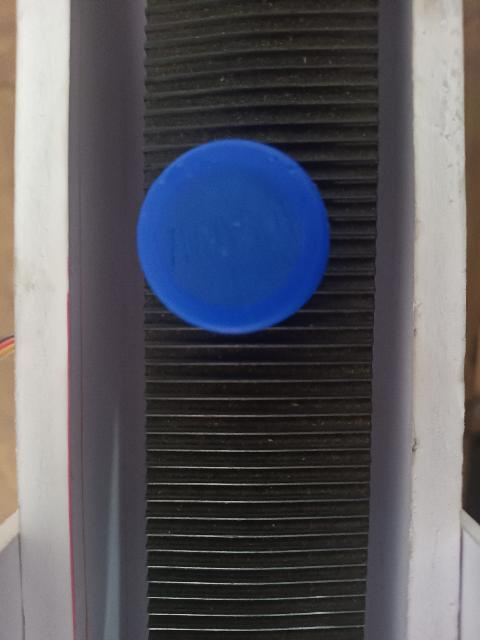bottlecap: (132, 127, 336, 346)
